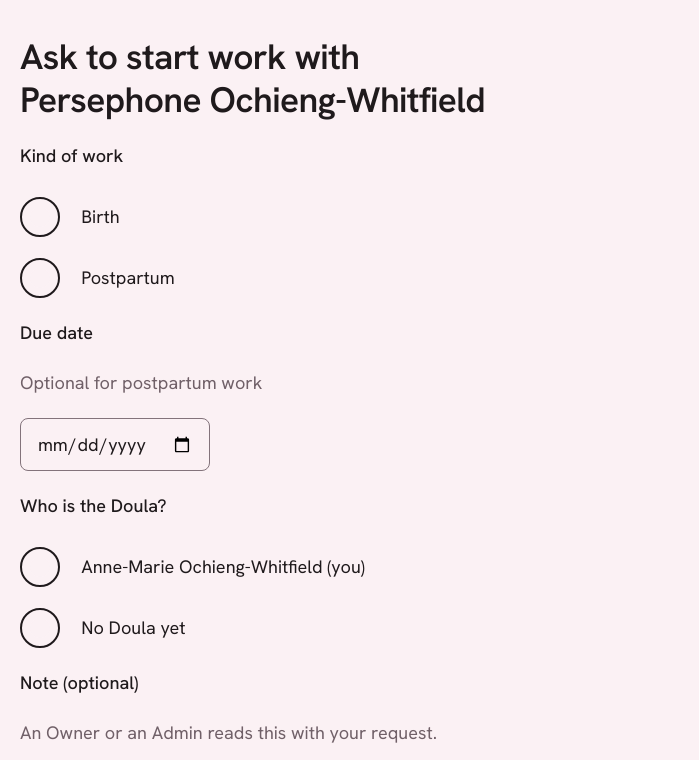
Test case: the Engagement Request screen › refuses a submit with no kind chosen, client-side, before any request
The image size is (699, 760).
Expected: the heading "Ask to start work with Persephone Ochieng-Whitfield" is shown, [20,34,485,123]
Click the radio button labelled "No Doula yet" at (40, 628), box [20,608,60,648]
(page scrolled)
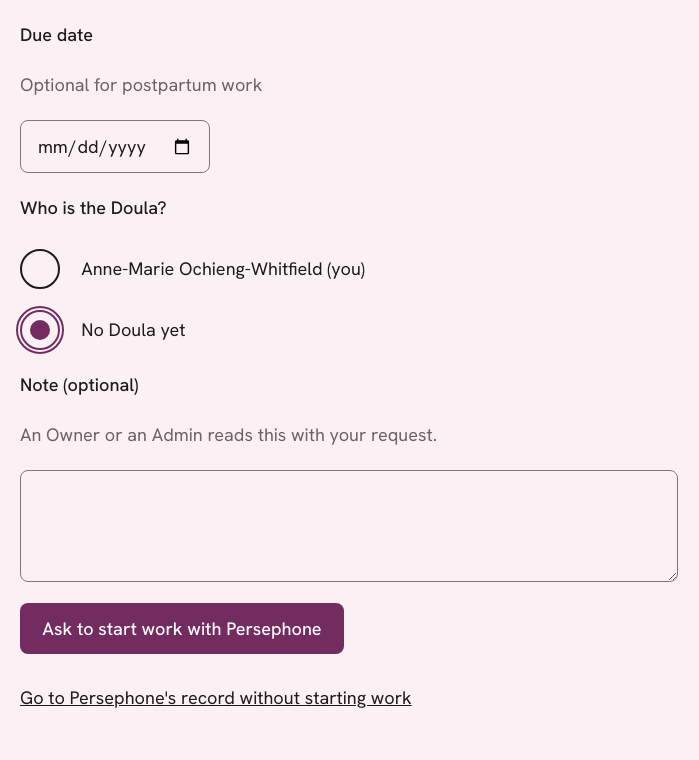
Click the button "Ask to start work with Persephone" at (182, 629), box [20,603,344,654]
(page scrolled)
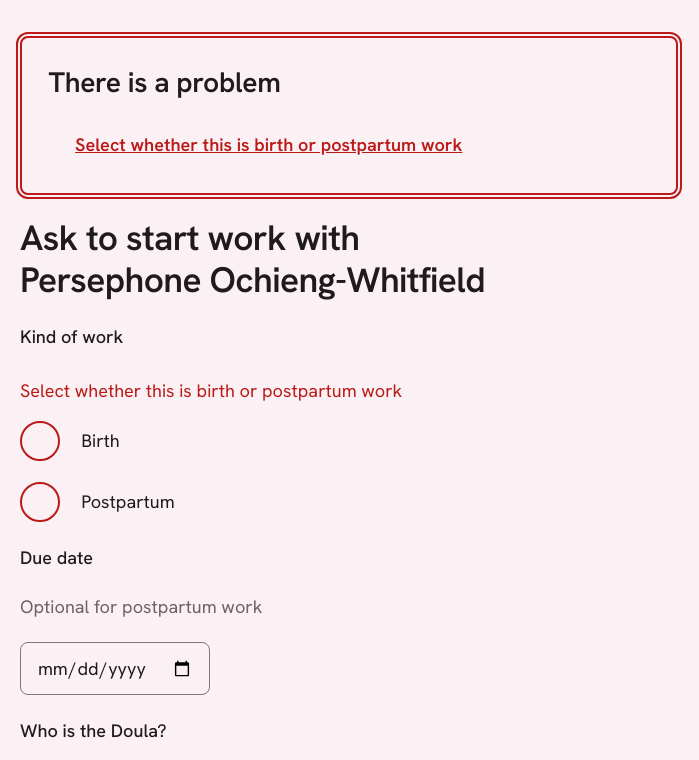
Expected: the link "Select whether this is birth or postpartum work" is shown, [75,133,462,156]
Expected: the message "Select whether this is birth or postpartum work" is shown, [20,379,402,402]
